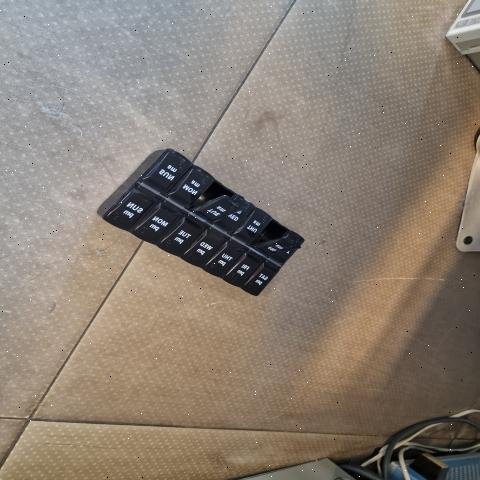Open: (192, 181, 235, 208), (255, 219, 288, 245)
